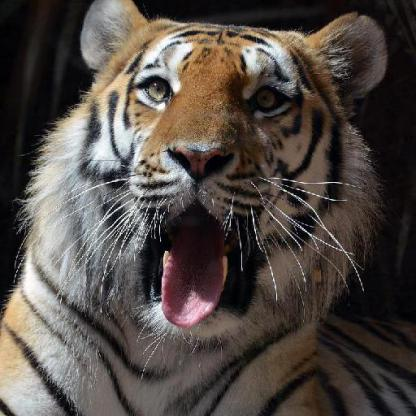tiger: (28, 13, 376, 335)
